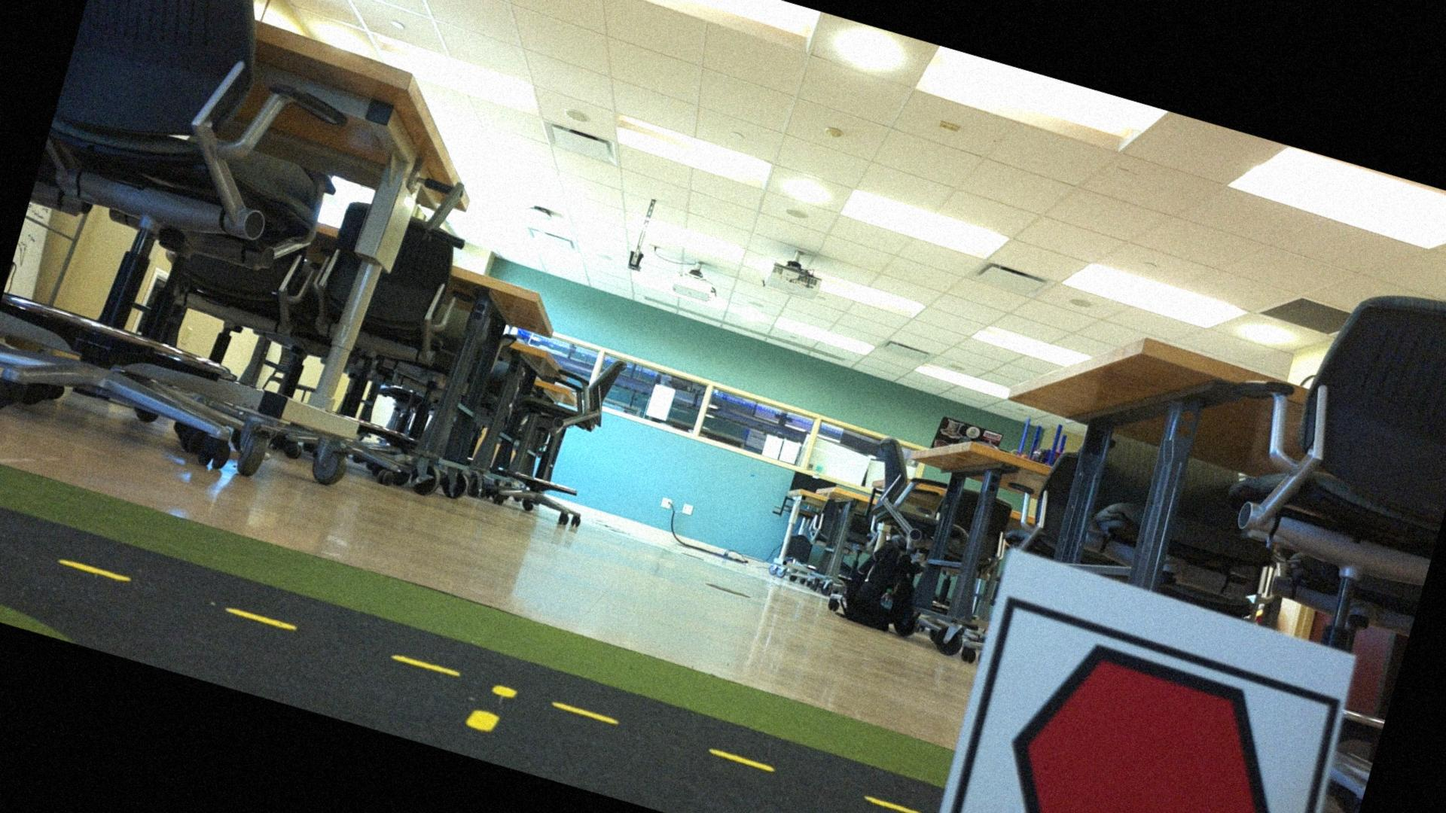stop: (957, 617, 1324, 812)
yellowline: (0, 524, 927, 812), (461, 674, 519, 740)
